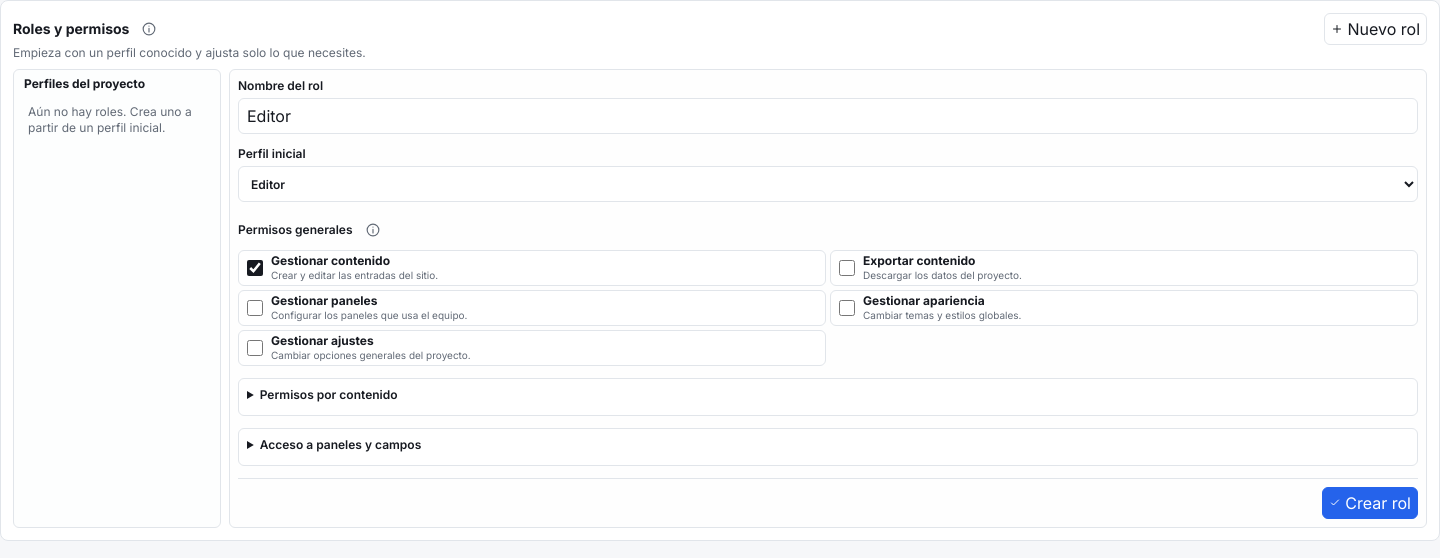
Scenario: M12.3 RoleManager › crea y actualiza un rol sin exponer identificadores internos
Expected: the heading "Roles y permisos" is shown, [13,19,130,39]
Replace the text in the field labelled "Nombre del rol" with "Editor de noticias" at (828, 116), box [238,98,1418,134]
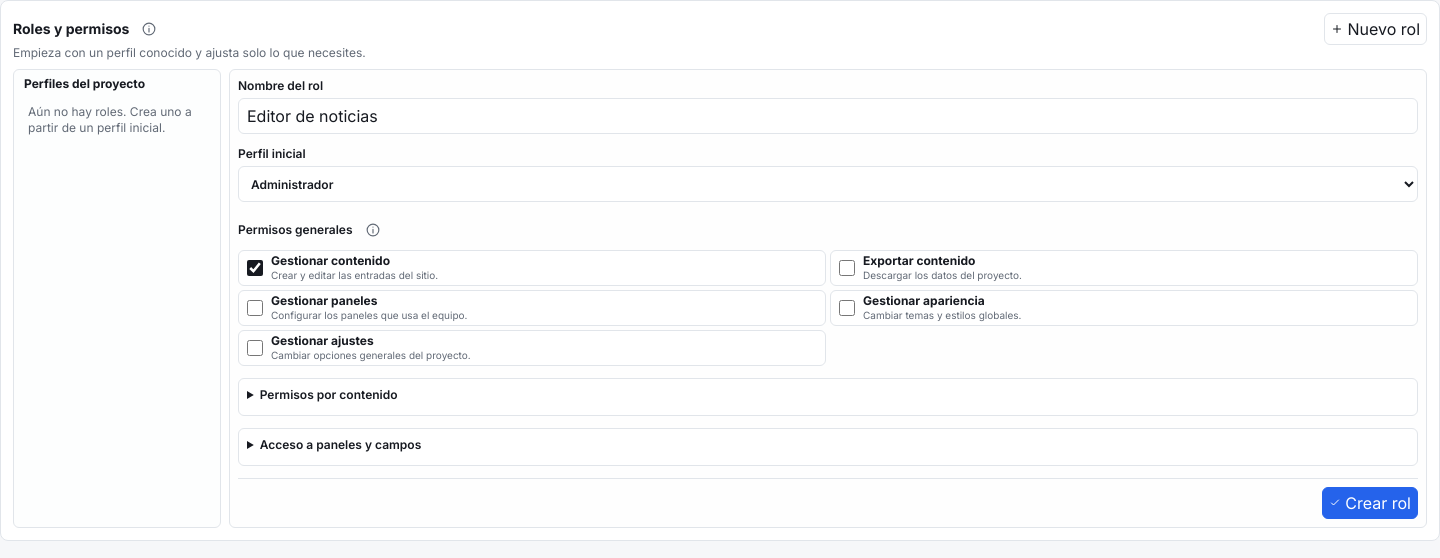
Click the button "Crear rol" at (1370, 503), box [1322,487,1418,519]
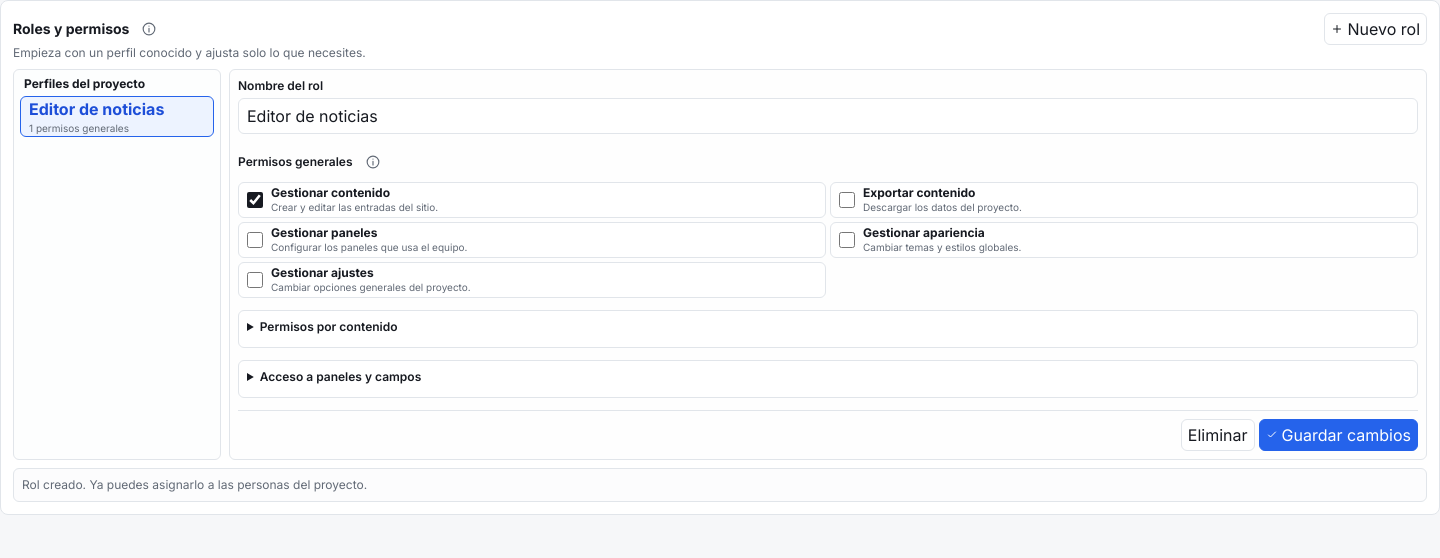
Replace the text in the field labelled "Nombre del rol" with "Editor principal" at (828, 116), box [238,98,1418,134]
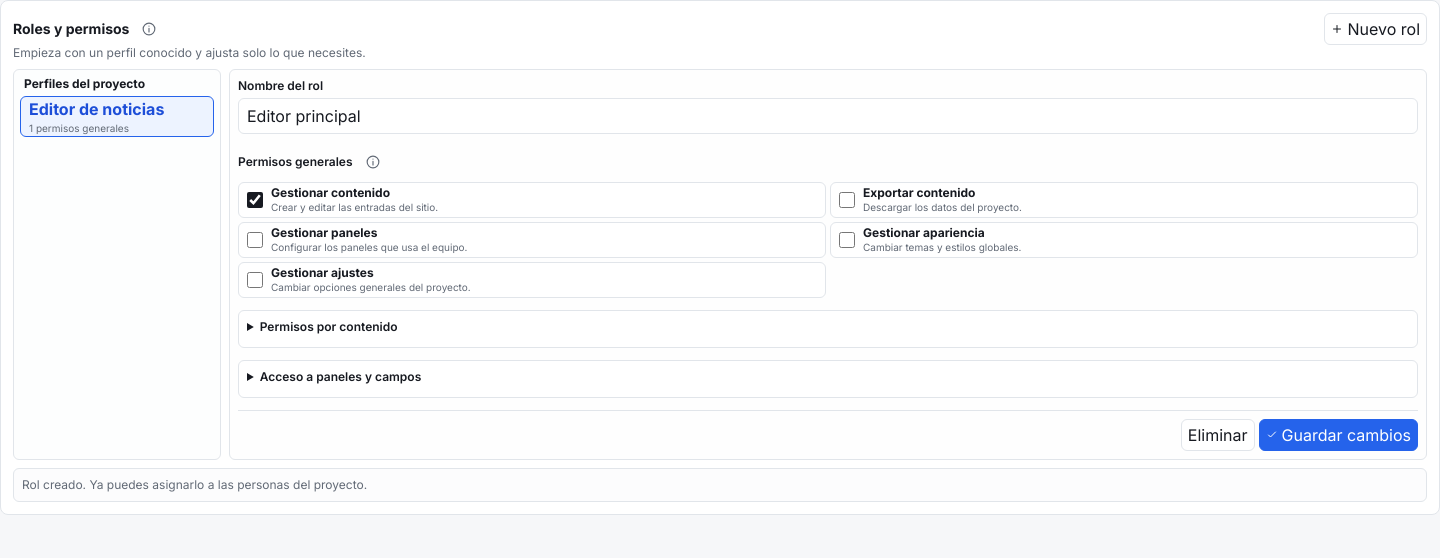
Click the button "Guardar cambios" at (1338, 435), box [1258,419,1418,451]
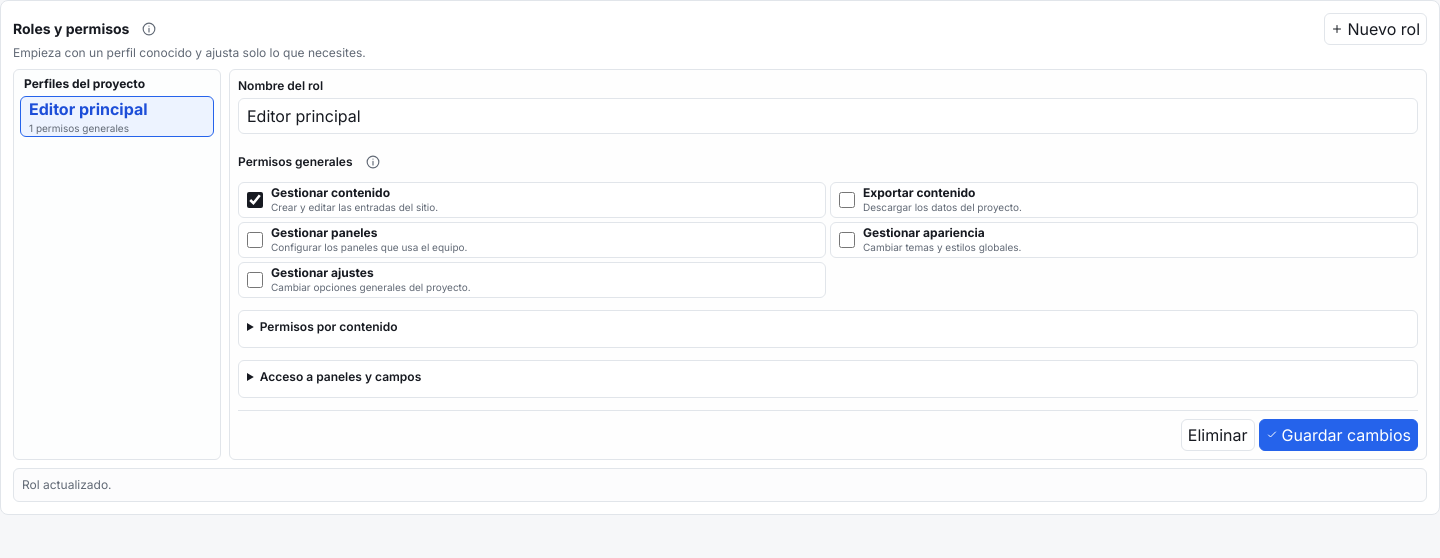
Now the text "Editor principal" is shown, box [29,99,148,119]
